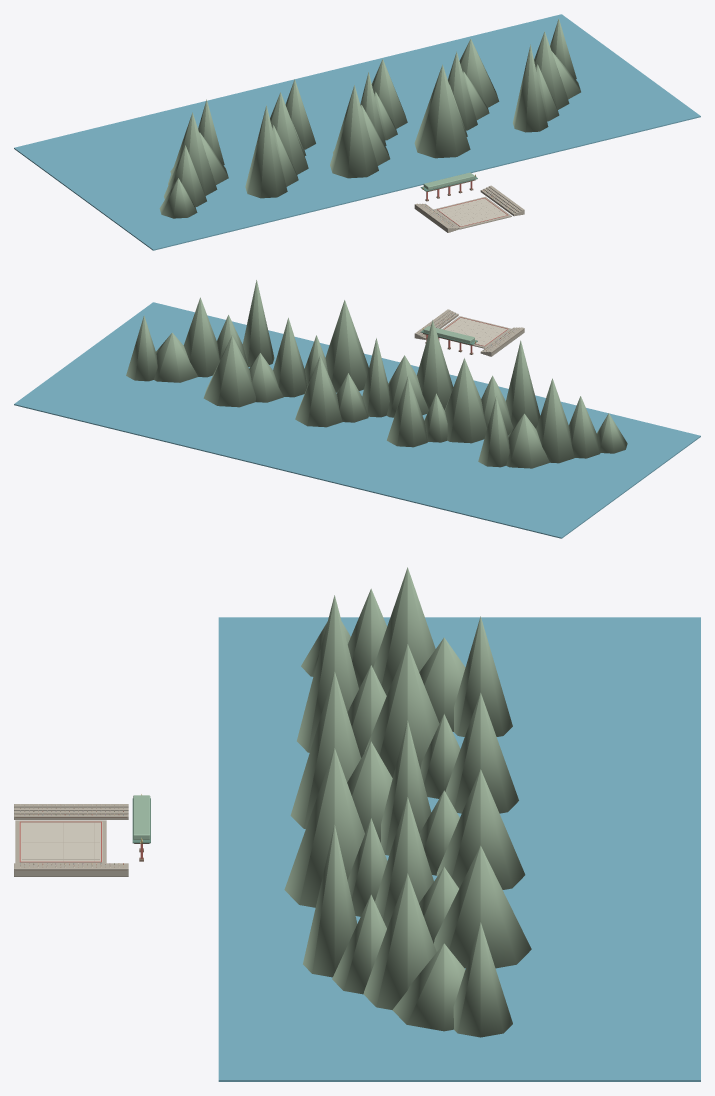
Rendered from tournament.glb.
3 views of the same model, one above another, from view 1: azimuth 30°, elevation 25°; view 2: azimuth 150°, elevation 25°; view 3: azimuth 270°, elevation 25° (orthographic). The views are drawn at different scales.
Parts seen in each view (by area): view 1: Tropical sea horizon, Papaya island mountain.015, Papaya island mountain.010, Papaya island mountain.005, Papaya island mountain.020, Papaya island mountain.002, Papaya island mountain.007, Papaya island mountain.019, Tournament ring tiled surface, Papaya island mountain.022, Papaya island mountain.014, Papaya island mountain.001 (+14 smaller); view 2: Tropical sea horizon, Papaya island mountain.007, Papaya island mountain.015, Papaya island mountain.019, Papaya island mountain.014, Papaya island mountain.002, Papaya island mountain.010, Papaya island mountain.022, Papaya island mountain.009, Papaya island mountain.017, Papaya island mountain.005, Papaya island mountain.003 (+15 smaller); view 3: Tropical sea horizon, Papaya island mountain.019, Papaya island mountain.015, Papaya island mountain.022, Papaya island mountain.014, Papaya island mountain.007, Papaya island mountain.020, Papaya island mountain.009, Papaya island mountain.010, Papaya island mountain.024, Papaya island mountain.023, Papaya island mountain.005 (+16 smaller).
Part boxes in pixels (left/top/right/bottom): Tropical sea horizon: left=14, top=14, right=700, bottom=250; Papaya island mountain.015: left=414, top=64, right=470, bottom=158; Papaya island mountain.010: left=330, top=85, right=378, bottom=178; Papaya island mountain.005: left=245, top=105, right=287, bottom=198; Papaya island mountain.020: left=513, top=44, right=548, bottom=132; Papaya island mountain.002: left=168, top=112, right=217, bottom=195; Papaya island mountain.007: left=270, top=92, right=308, bottom=174; Papaya island mountain.019: left=459, top=38, right=499, bottom=107; Tournament ring tiled surface: left=437, top=198, right=508, bottom=227; Papaya island mountain.022: left=534, top=31, right=569, bottom=109; Papaya island mountain.014: left=371, top=59, right=407, bottom=128; Papaya island mountain.001: left=164, top=145, right=206, bottom=206; Tropical sea horizon: left=14, top=302, right=700, bottom=538; Papaya island mountain.007: left=444, top=358, right=487, bottom=443; Papaya island mountain.015: left=325, top=300, right=368, bottom=392; Papaya island mountain.019: left=203, top=335, right=255, bottom=407; Papaya island mountain.014: left=295, top=355, right=342, bottom=427; Papaya island mountain.002: left=536, top=378, right=574, bottom=463; Papaya island mountain.010: left=417, top=320, right=453, bottom=410; Papaya island mountain.022: left=183, top=297, right=219, bottom=377; Papaya island mountain.009: left=387, top=376, right=427, bottom=447; Papaya island mountain.017: left=273, top=317, right=306, bottom=397; Papaya island mountain.005: left=506, top=340, right=540, bottom=428; Papaya island mountain.003: left=506, top=413, right=549, bottom=468; Tropical sea horizon: left=218, top=617, right=700, bottom=1081; Papaya island mountain.019: left=434, top=845, right=531, bottom=968; Papaya island mountain.015: left=284, top=748, right=364, bottom=907; Papaya island mountain.022: left=363, top=873, right=436, bottom=1009; Papaya island mountain.014: left=436, top=769, right=525, bottom=889; Papaya island mountain.007: left=364, top=644, right=439, bottom=777; Papaya island mountain.020: left=303, top=824, right=357, bottom=977; Papaya island mountain.009: left=445, top=693, right=518, bottom=813; Papaya island mountain.010: left=290, top=671, right=361, bottom=828; Papaya island mountain.024: left=453, top=922, right=512, bottom=1037; Papaya island mountain.023: left=392, top=943, right=465, bottom=1031; Papaya island mountain.005: left=297, top=595, right=358, bottom=752.
Bounding box in the file's own units: 420 × 66 × 264.
